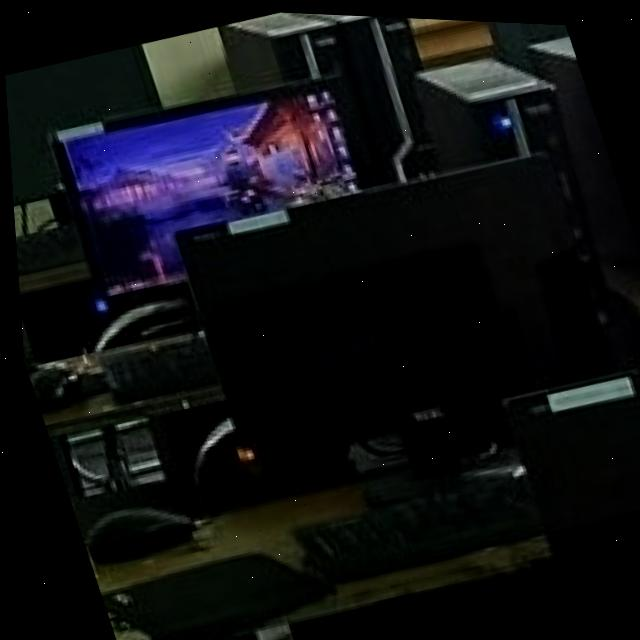onscreen: (183, 152, 616, 463), (51, 87, 352, 295)
